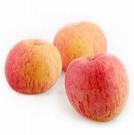apple: (3, 35, 64, 96), (51, 23, 110, 71)
